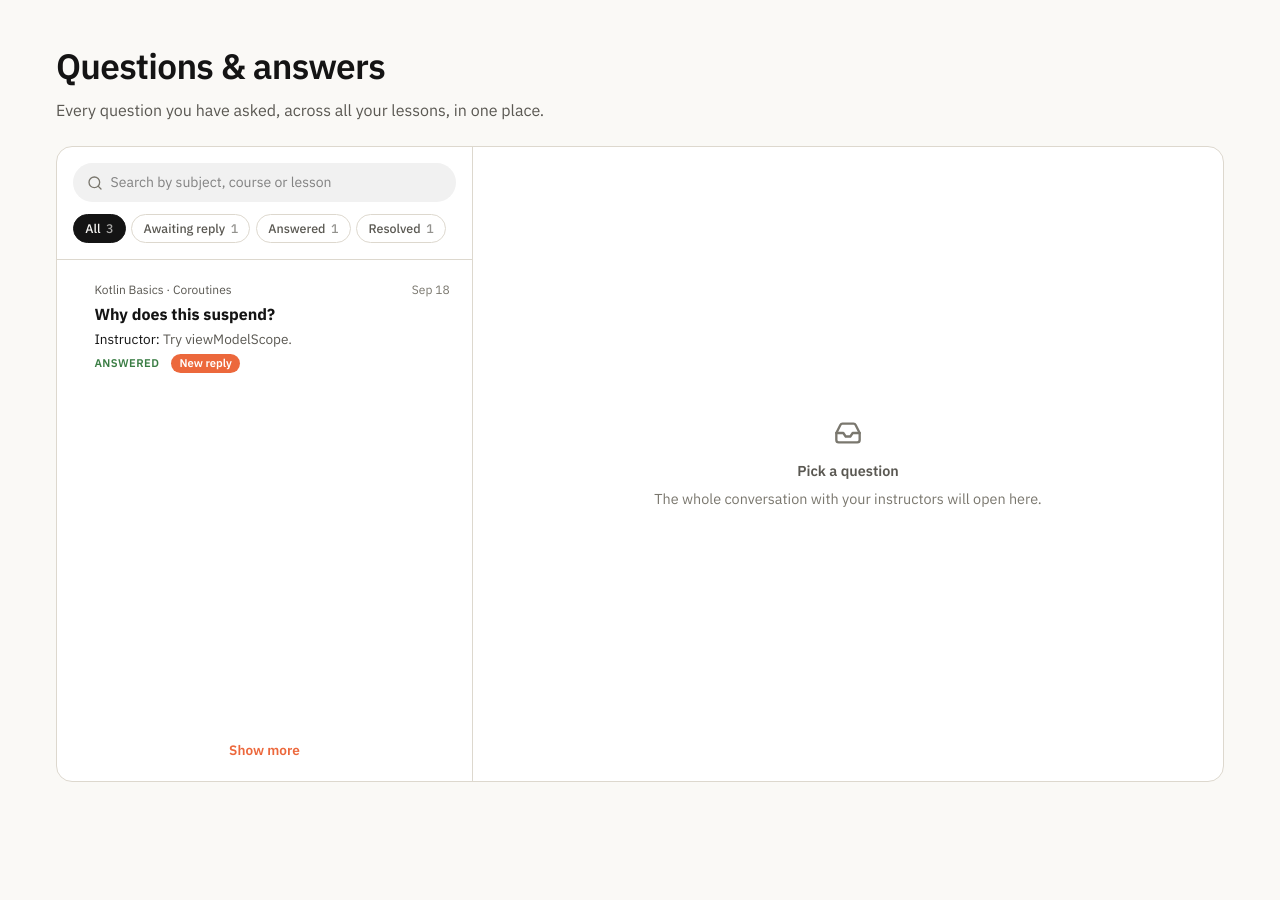
Test: QuestionsView › loads the next page on demand
Click the button "Show more".
click(264, 750)  # box x1=65 y1=731 x2=464 y2=769
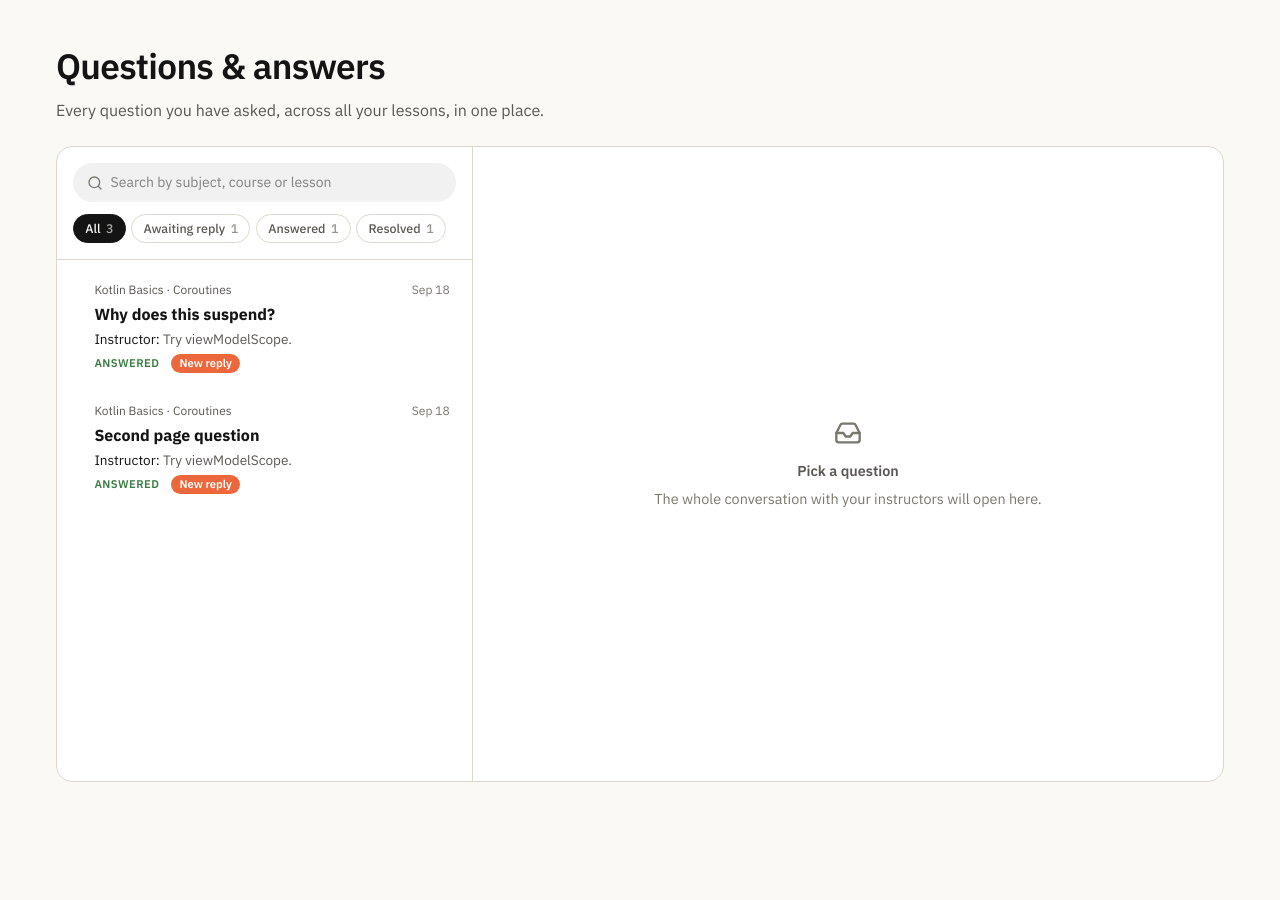
Check: the text "Why does this suspend?" is shown, box x1=94 y1=304 x2=275 y2=324
Check: the text "Second page question" is shown, box x1=94 y1=425 x2=259 y2=445
Check: the button "Show more" is gone
